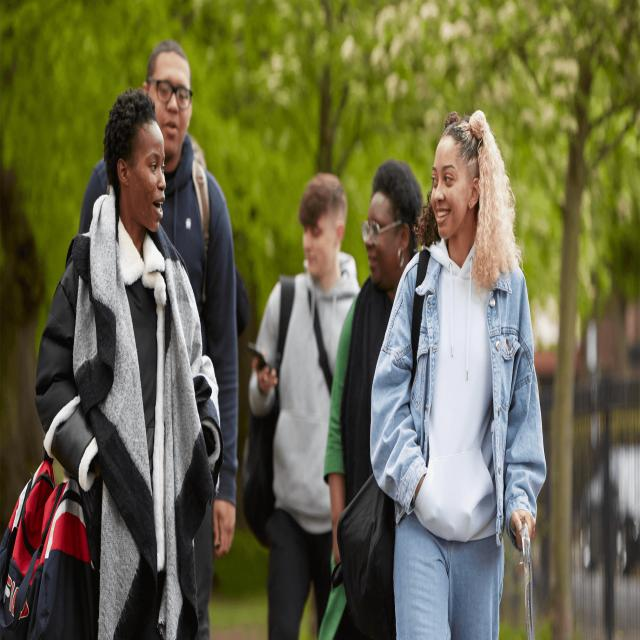adult: (36, 87, 222, 640), (77, 38, 238, 640), (372, 105, 546, 640), (248, 164, 362, 640), (325, 160, 422, 640)
